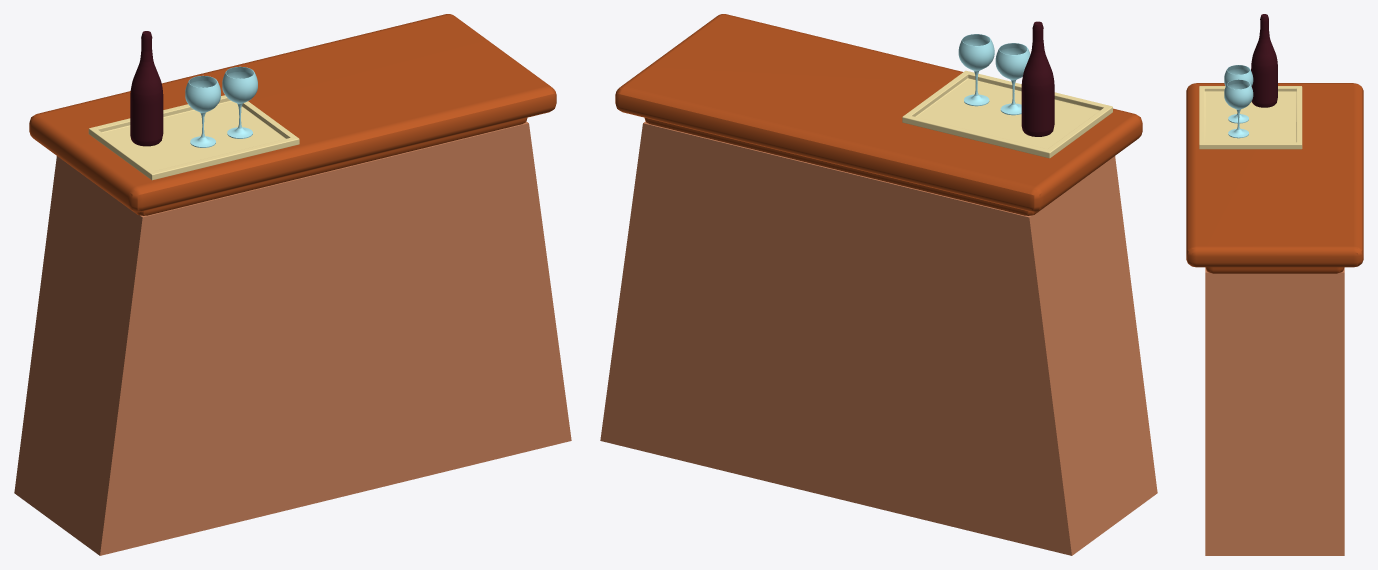
The model's file is Bar.fbx.
The picture shows the model from 3 angles, left to right: view 1: azimuth 30°, elevation 25°; view 2: azimuth 150°, elevation 25°; view 3: azimuth 270°, elevation 25°; orthographic projection. The views are drawn at different scales.
Visible parts, largest first — view 1: polySurface24; view 2: polySurface24; view 3: polySurface24.
Boxes of the visible parts, left/top/right/bottom form: polySurface24: left=14, top=14, right=571, bottom=555; polySurface24: left=600, top=14, right=1157, bottom=555; polySurface24: left=1186, top=14, right=1363, bottom=555.
Size of the model in its own units: 104 by 100 by 41.64.
